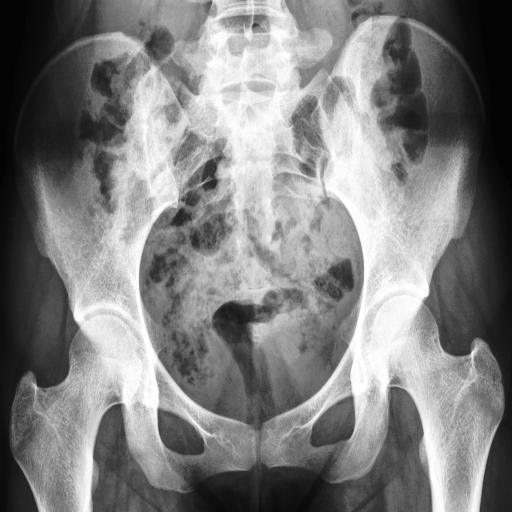normal: (368, 295, 506, 512), (9, 314, 143, 512)
